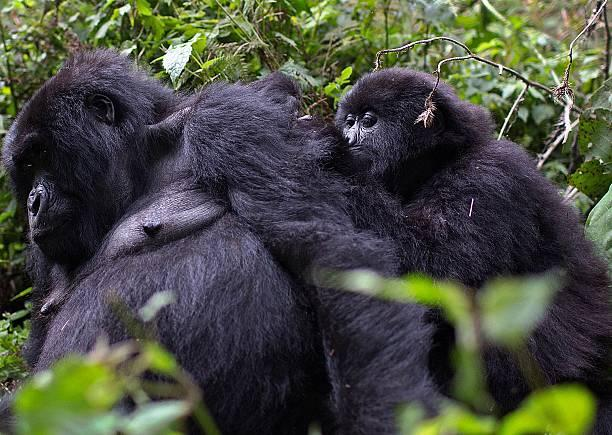goriile_montagne: (4, 60, 344, 435), (333, 48, 612, 377)
